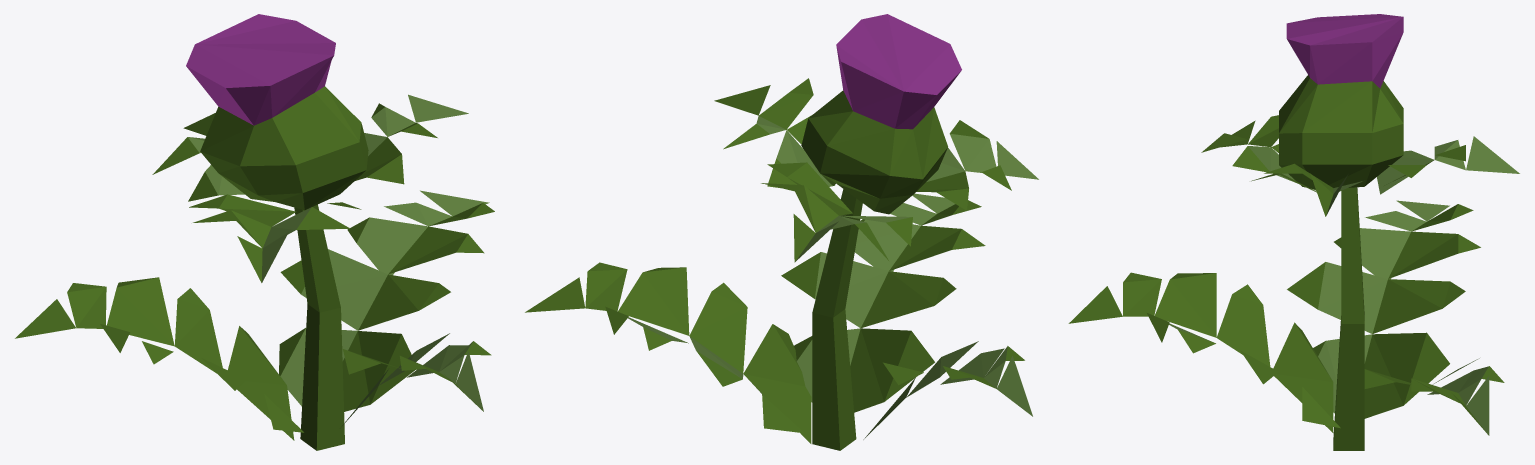
3 renders of one model, left to right at view 1: azimuth 30°, elevation 25°; view 2: azimuth 150°, elevation 25°; view 3: azimuth 270°, elevation 25°, orthographic. The views are drawn at different scales.
Size of the model in its own units: 70 by 56 by 58.
1 material, 1 textured.
